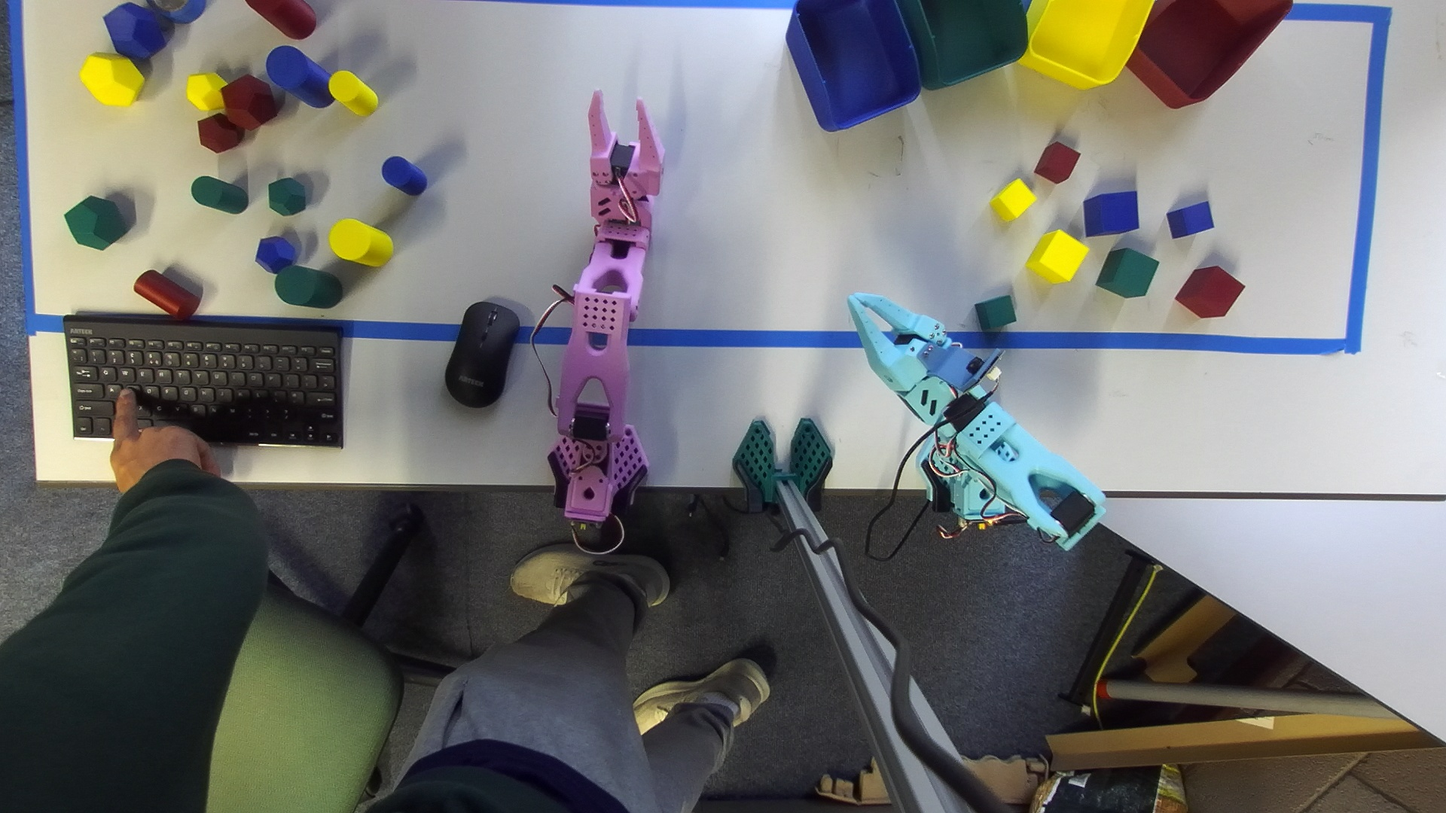bin: (1127, 0, 1292, 108), (786, 0, 920, 130), (1019, 0, 1153, 88), (897, 0, 1028, 88)
cube: (847, 293, 997, 425), (588, 90, 664, 228), (1176, 266, 1244, 318), (1026, 230, 1088, 283), (1096, 248, 1158, 297), (1083, 190, 1138, 236), (990, 178, 1036, 221), (1033, 141, 1080, 183), (1167, 202, 1213, 238), (975, 294, 1016, 331)
